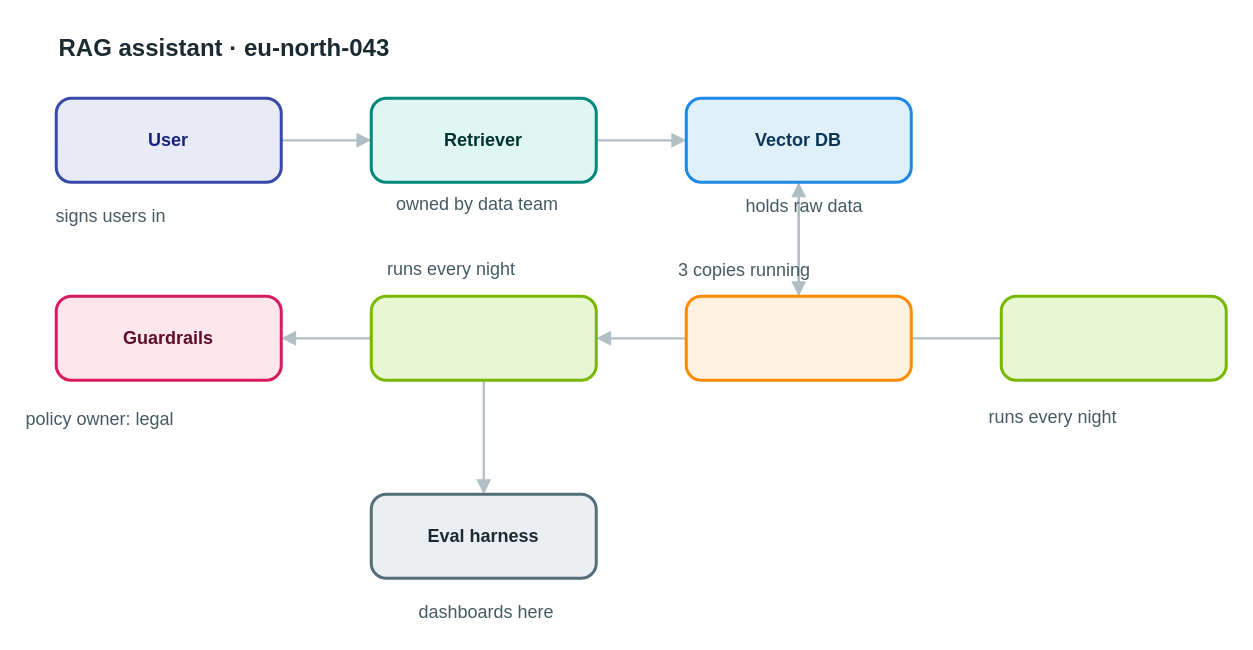
Image size: 1253x650. Some labels were removed from this diagram. Each missing label, with the centre of its shape:
Embedder: the point at 1113,337
Nemotron: the point at 483,337
Reranker: the point at 798,337
